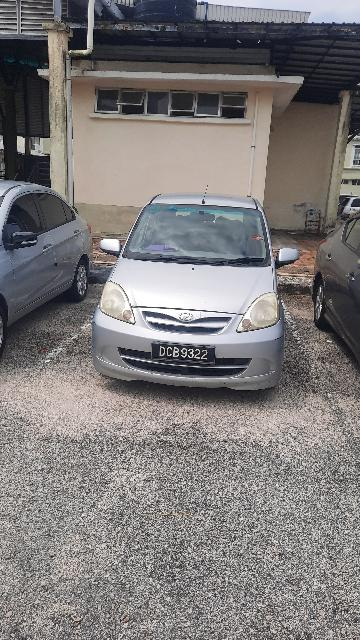License_Plate: (155, 341, 220, 369)
car: (94, 183, 299, 408)
